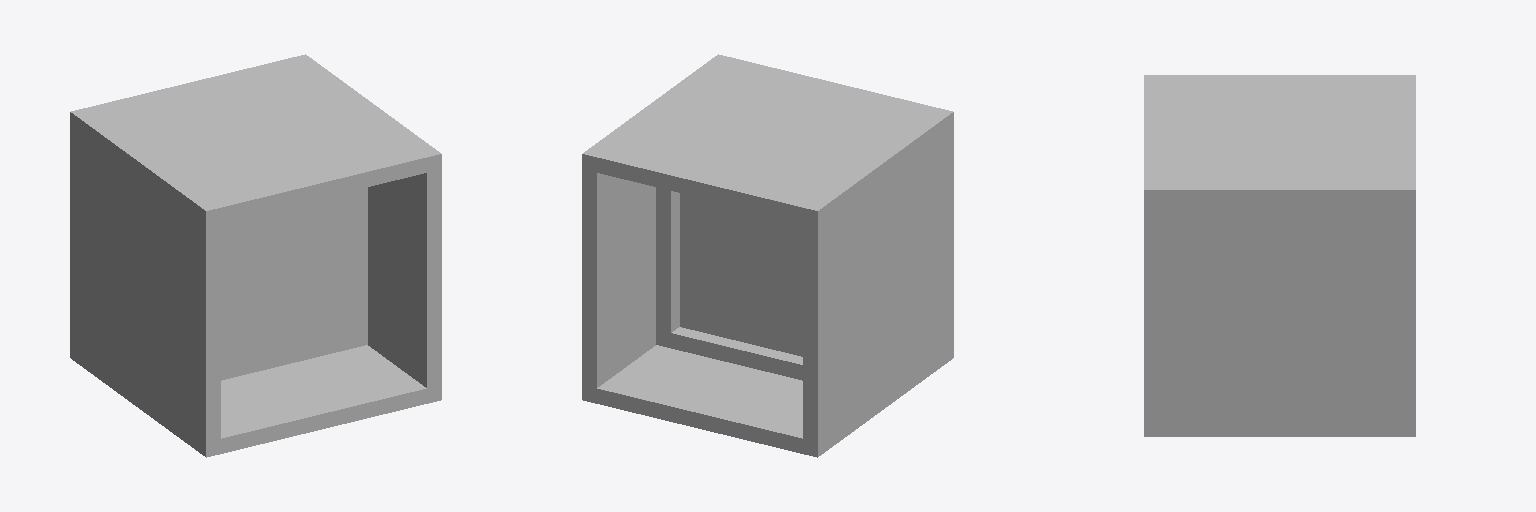
File: cleanroom_check_valve_close.obj
The picture shows the model from 3 angles: view 1: azimuth 30°, elevation 25°; view 2: azimuth 150°, elevation 25°; view 3: azimuth 270°, elevation 25°; orthographic projection.
Visible parts, largest first — view 1: node_0_0_0.005; view 2: node_0_0_0.005; view 3: node_0_0_0.005.
Boxes of the visible parts, box(x1,y1,x2,y2) form: node_0_0_0.005: box(70, 54, 441, 457); node_0_0_0.005: box(582, 54, 953, 457); node_0_0_0.005: box(1144, 75, 1415, 436).
Size of the model in its own units: 1 by 1 by 1.